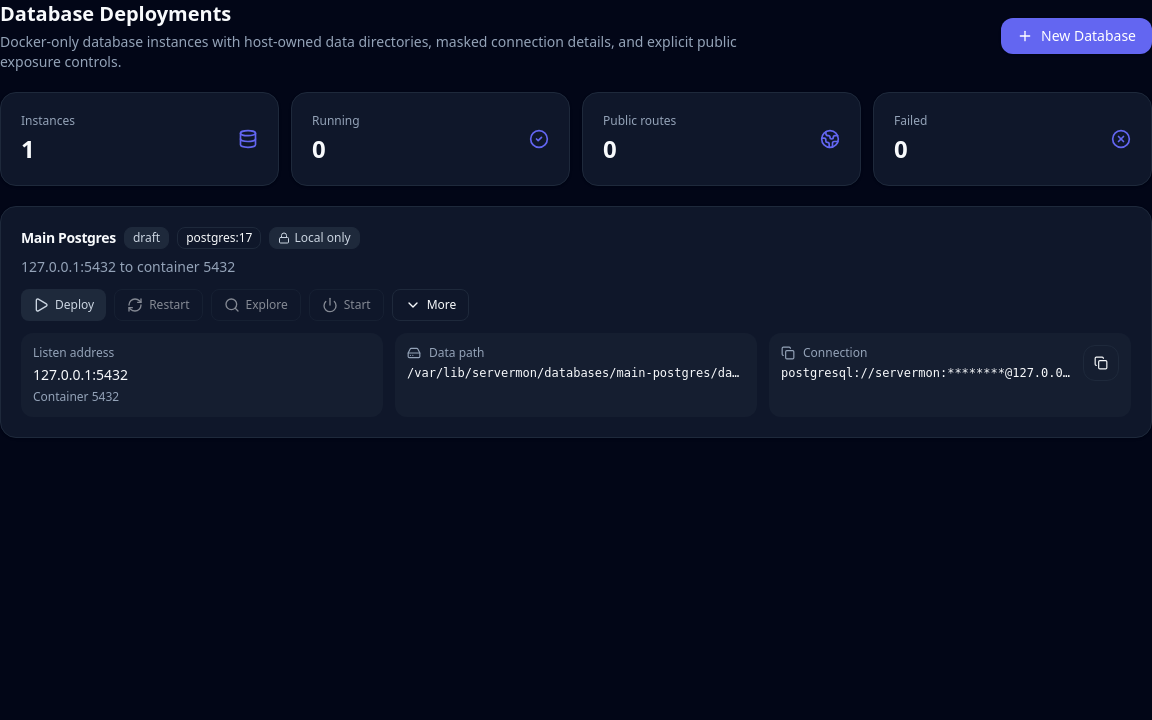
Test: DatabasesPage › renders database details with masked connection string and deploy controls
This screenshot has width=1152, height=720.
Expected: the heading "Main Postgres" is shown, [21,231,116,245]
Expected: the text "/var/lib/servermon/databases/main-postgres/data" is shown, [407,365,745,381]
Click the button with aria-label "Expand Main Postgres": (430, 305) [392,289,469,321]
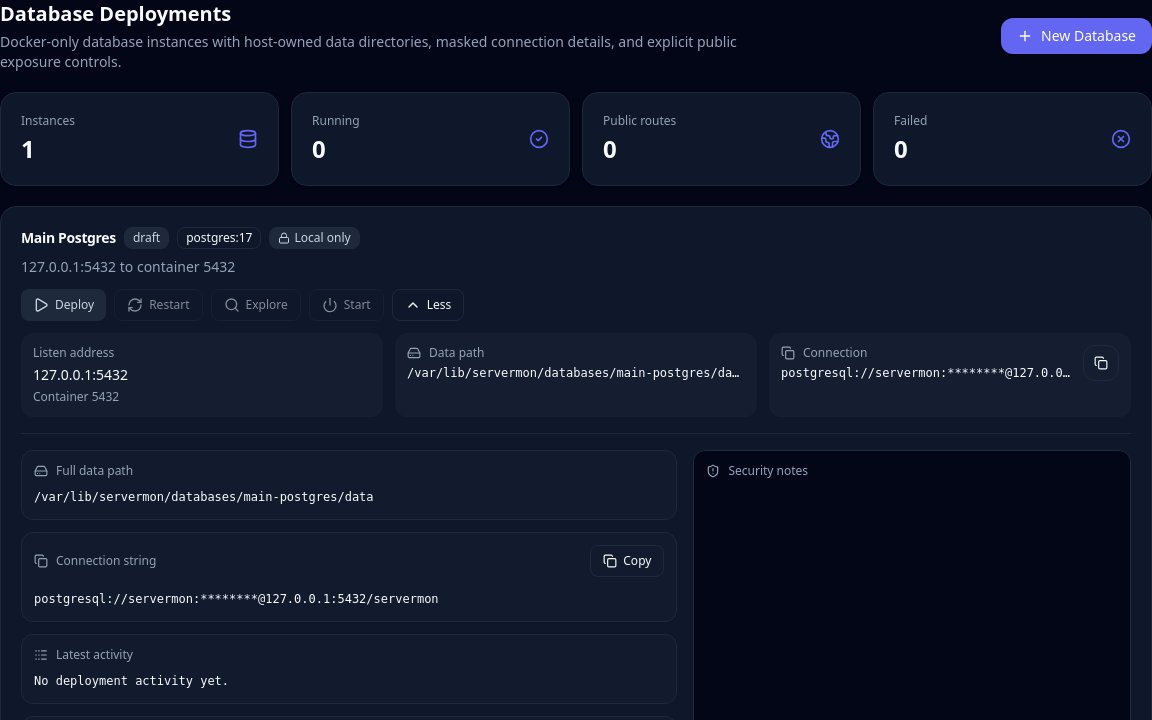
Expected: the text "No deployment activity yet." is shown, [34,674,229,688]
Expected: the button with aria-label "Collapse Main Postgres" is shown, [392,289,464,321]
